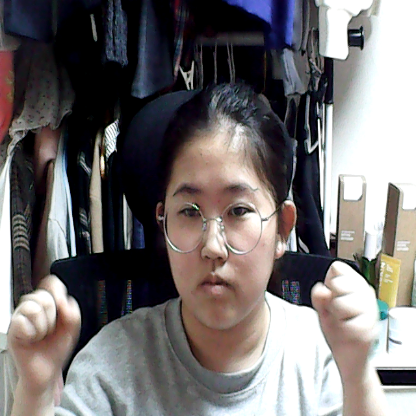Finger_0: (1, 267, 97, 374), (316, 253, 387, 375)
